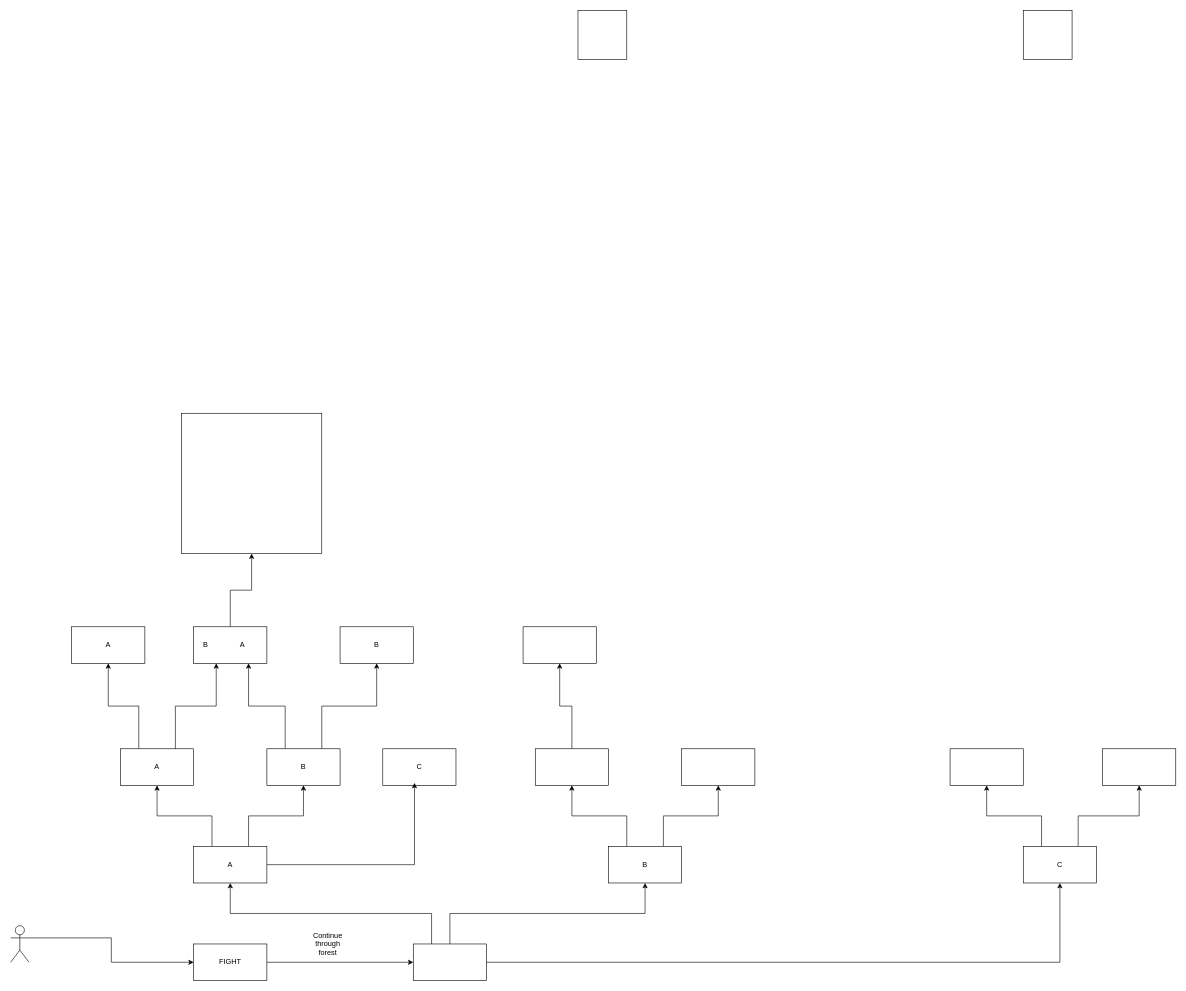
Some shapes in this 1186 by 991 pixel diagram are drawn without their labels. The shapes that lost their labels are listed below. From the top down, each one's centre as x and y in pixels, then its label:
At (251,483): "ENDING 1".
At (19,943): "Actor".
